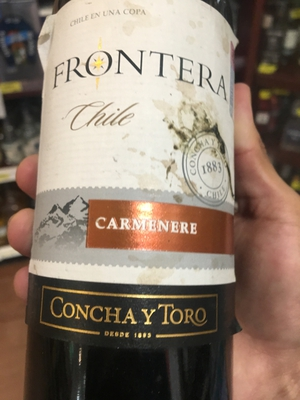frontera carmenere: (27, 3, 238, 400)
